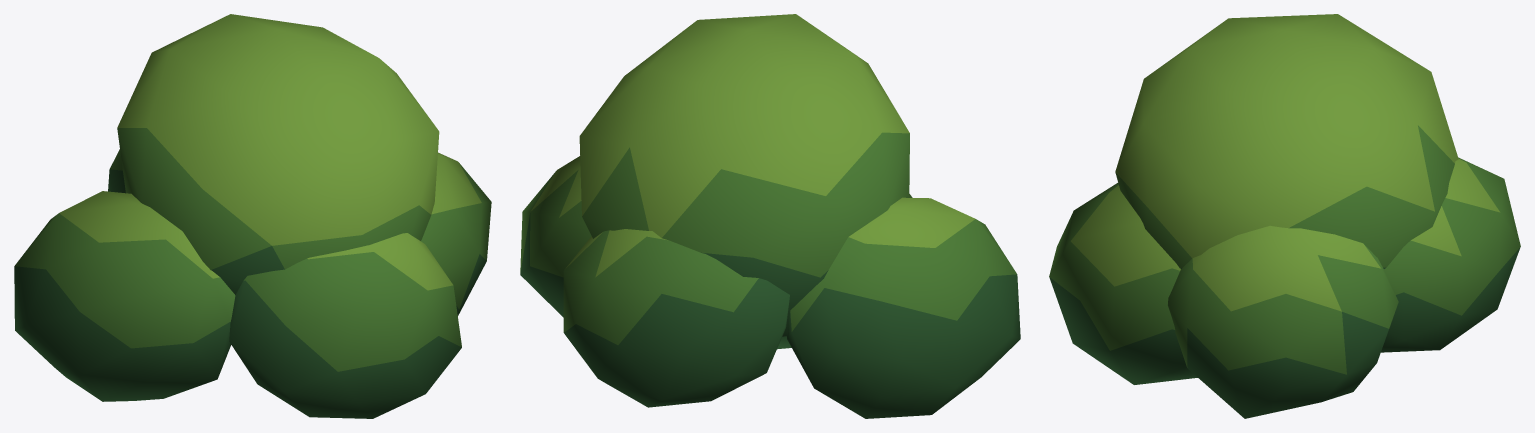
File: BushA_LOD.glb
The picture shows the model from 3 angles, left to right: view 1: azimuth 30°, elevation 25°; view 2: azimuth 150°, elevation 25°; view 3: azimuth 270°, elevation 25°; orthographic projection. The views are drawn at different scales.
Visible parts, largest first — view 1: BushA_LOD.leafLight, BushA_LOD.leafMid, BushA_LOD.leafDark; view 2: BushA_LOD.leafLight, BushA_LOD.leafMid, BushA_LOD.leafDark; view 3: BushA_LOD.leafLight, BushA_LOD.leafMid, BushA_LOD.leafDark.
Boxes of the visible parts, x1,y1,x2,y2 form: BushA_LOD.leafLight: (59, 14, 481, 290); BushA_LOD.leafMid: (14, 128, 491, 371); BushA_LOD.leafDark: (14, 169, 486, 418); BushA_LOD.leafLight: (531, 14, 975, 277); BushA_LOD.leafMid: (520, 132, 1016, 344); BushA_LOD.leafDark: (520, 213, 1020, 418); BushA_LOD.leafLight: (1071, 14, 1500, 311); BushA_LOD.leafMid: (1049, 125, 1520, 374); BushA_LOD.leafDark: (1049, 247, 1520, 418).
Size of the model in its own units: 4.08 by 2.87 by 3.6.
